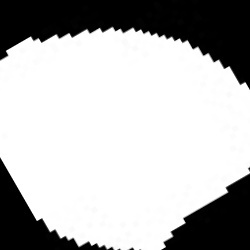spot: (1, 26, 248, 249)
